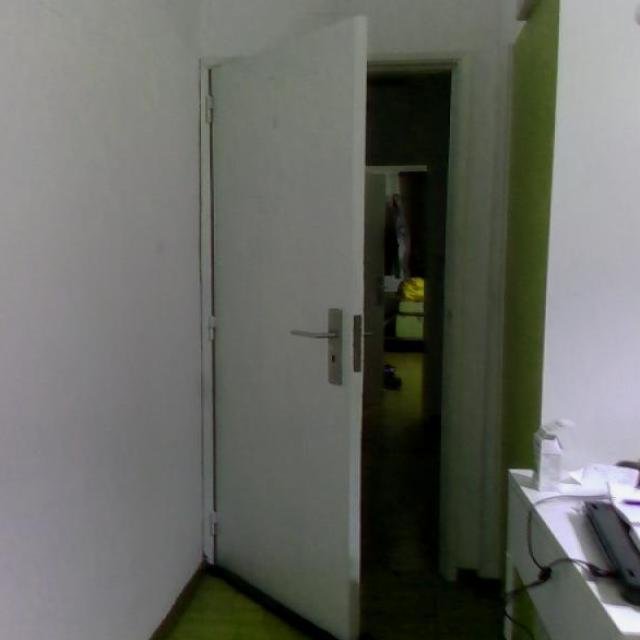door: (206, 14, 366, 638)
